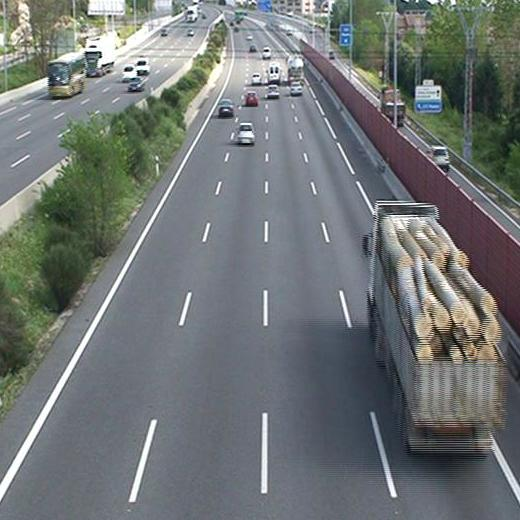car: (237, 123, 257, 145), (218, 97, 234, 116), (246, 90, 260, 109), (291, 80, 305, 97), (268, 85, 281, 99), (251, 72, 259, 85)
tank-truck: (287, 53, 305, 84)
truck: (365, 201, 506, 455)
van: (267, 61, 282, 82)
